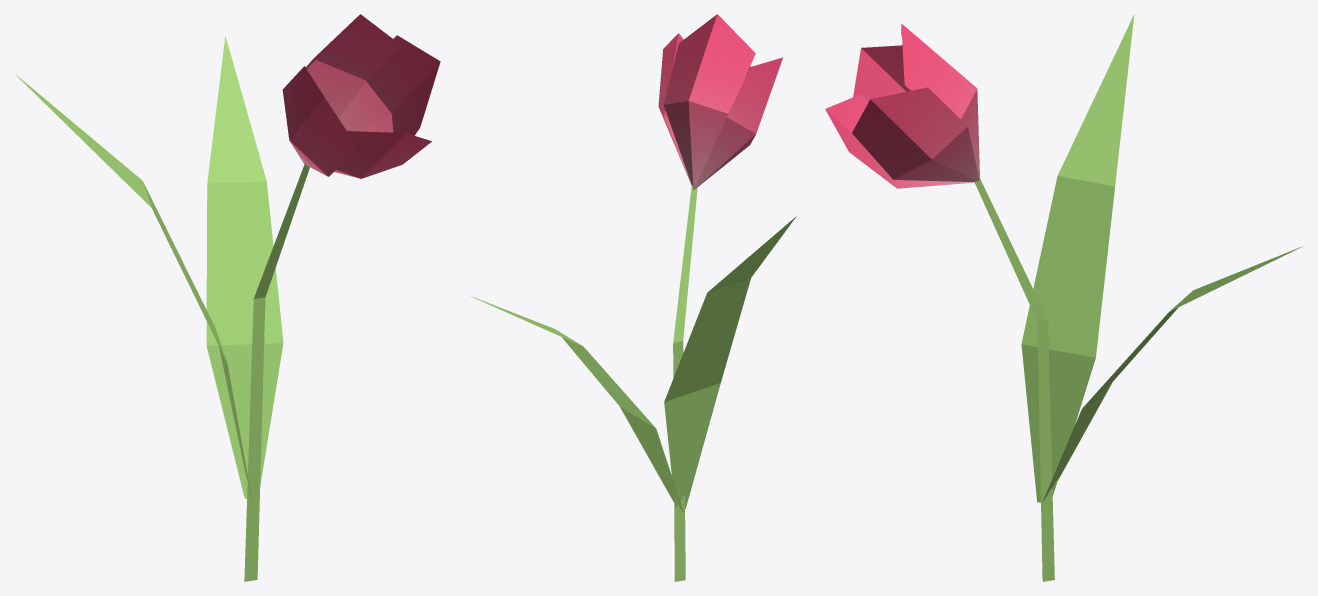
The model's file is Flower_f_TwoS_08.fbx.
3 views of the same model, side by side, from view 1: azimuth 30°, elevation 25°; view 2: azimuth 150°, elevation 25°; view 3: azimuth 270°, elevation 25° (orthographic). The views are drawn at different scales.
Parts seen in each view (by area): view 1: Flower_f_TwoS_08; view 2: Flower_f_TwoS_08; view 3: Flower_f_TwoS_08.
Part boxes in pixels (x1,y1,x2,y2): Flower_f_TwoS_08: (16, 14, 440, 581); Flower_f_TwoS_08: (470, 14, 796, 581); Flower_f_TwoS_08: (825, 14, 1303, 581).
Size of the model in its own units: 0.2906 by 0.5648 by 0.4293.
